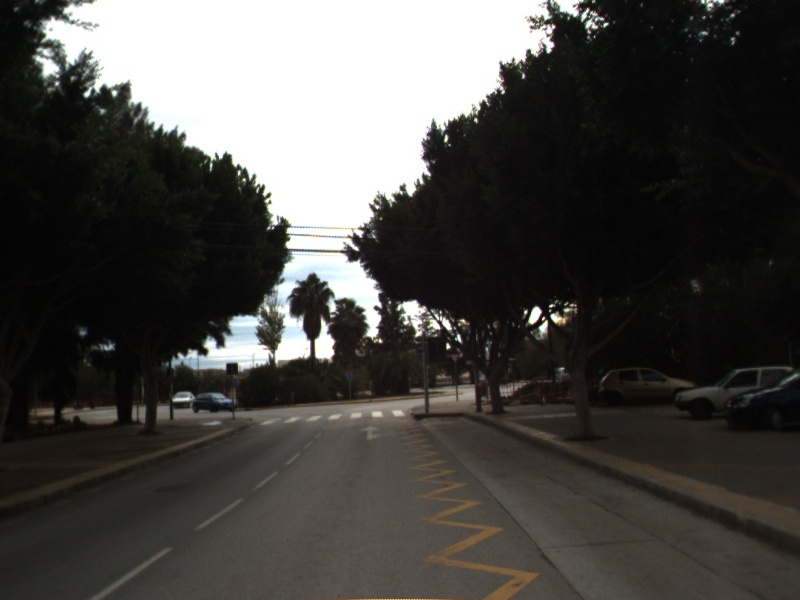STRAIGHT_RIGHT: (358, 424, 401, 442)
